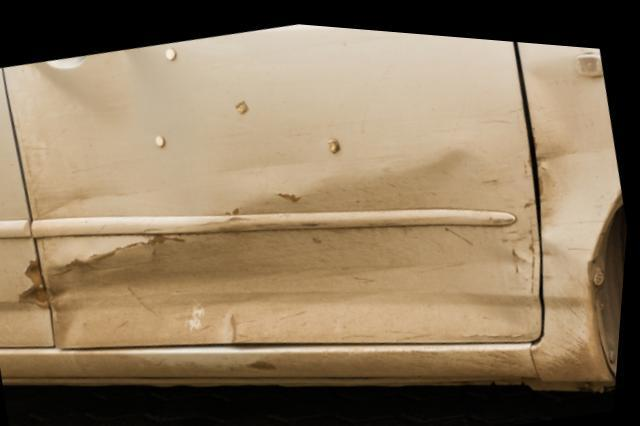crack: (24, 253, 53, 308)
dent: (55, 148, 529, 344), (530, 50, 624, 246), (24, 43, 164, 145)
